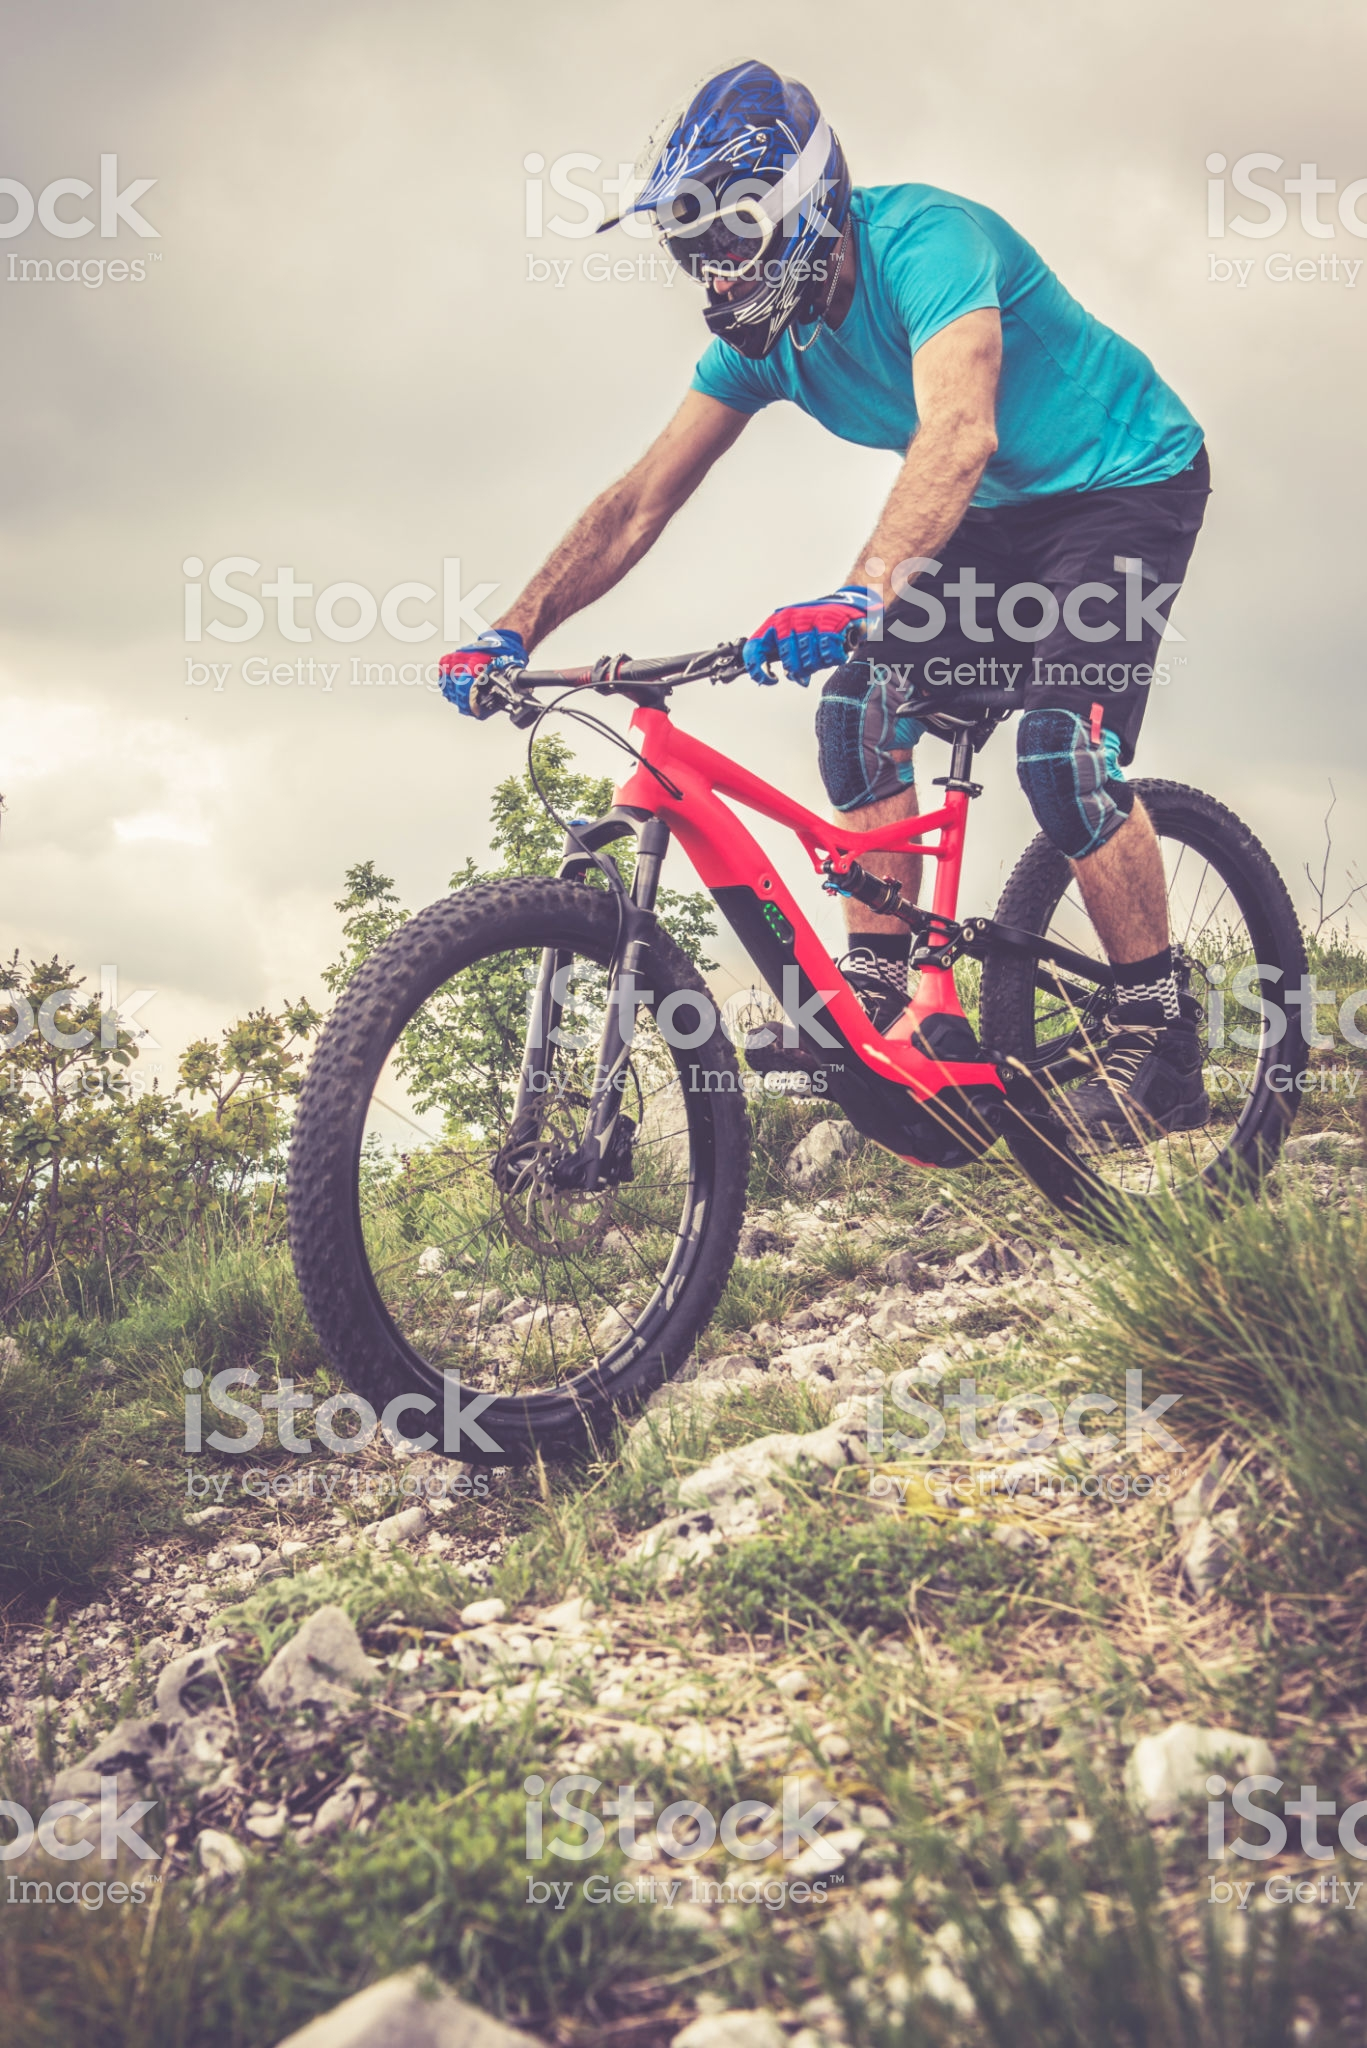helmet: (627, 66, 851, 345)
